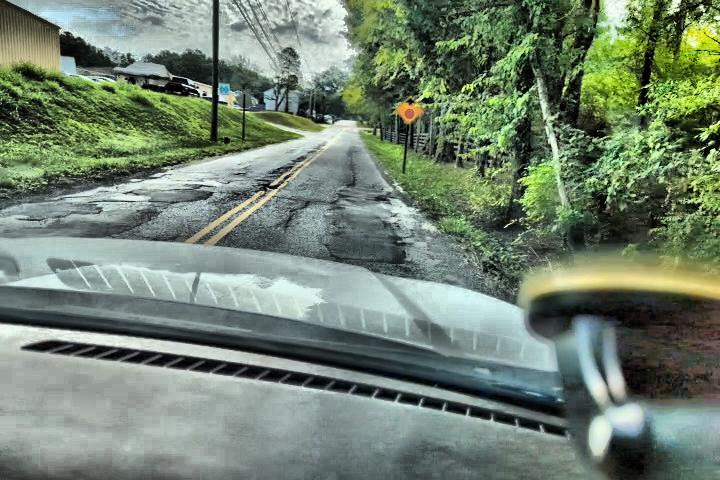pothole: (41, 167, 216, 238), (324, 180, 409, 268), (259, 169, 292, 195)
